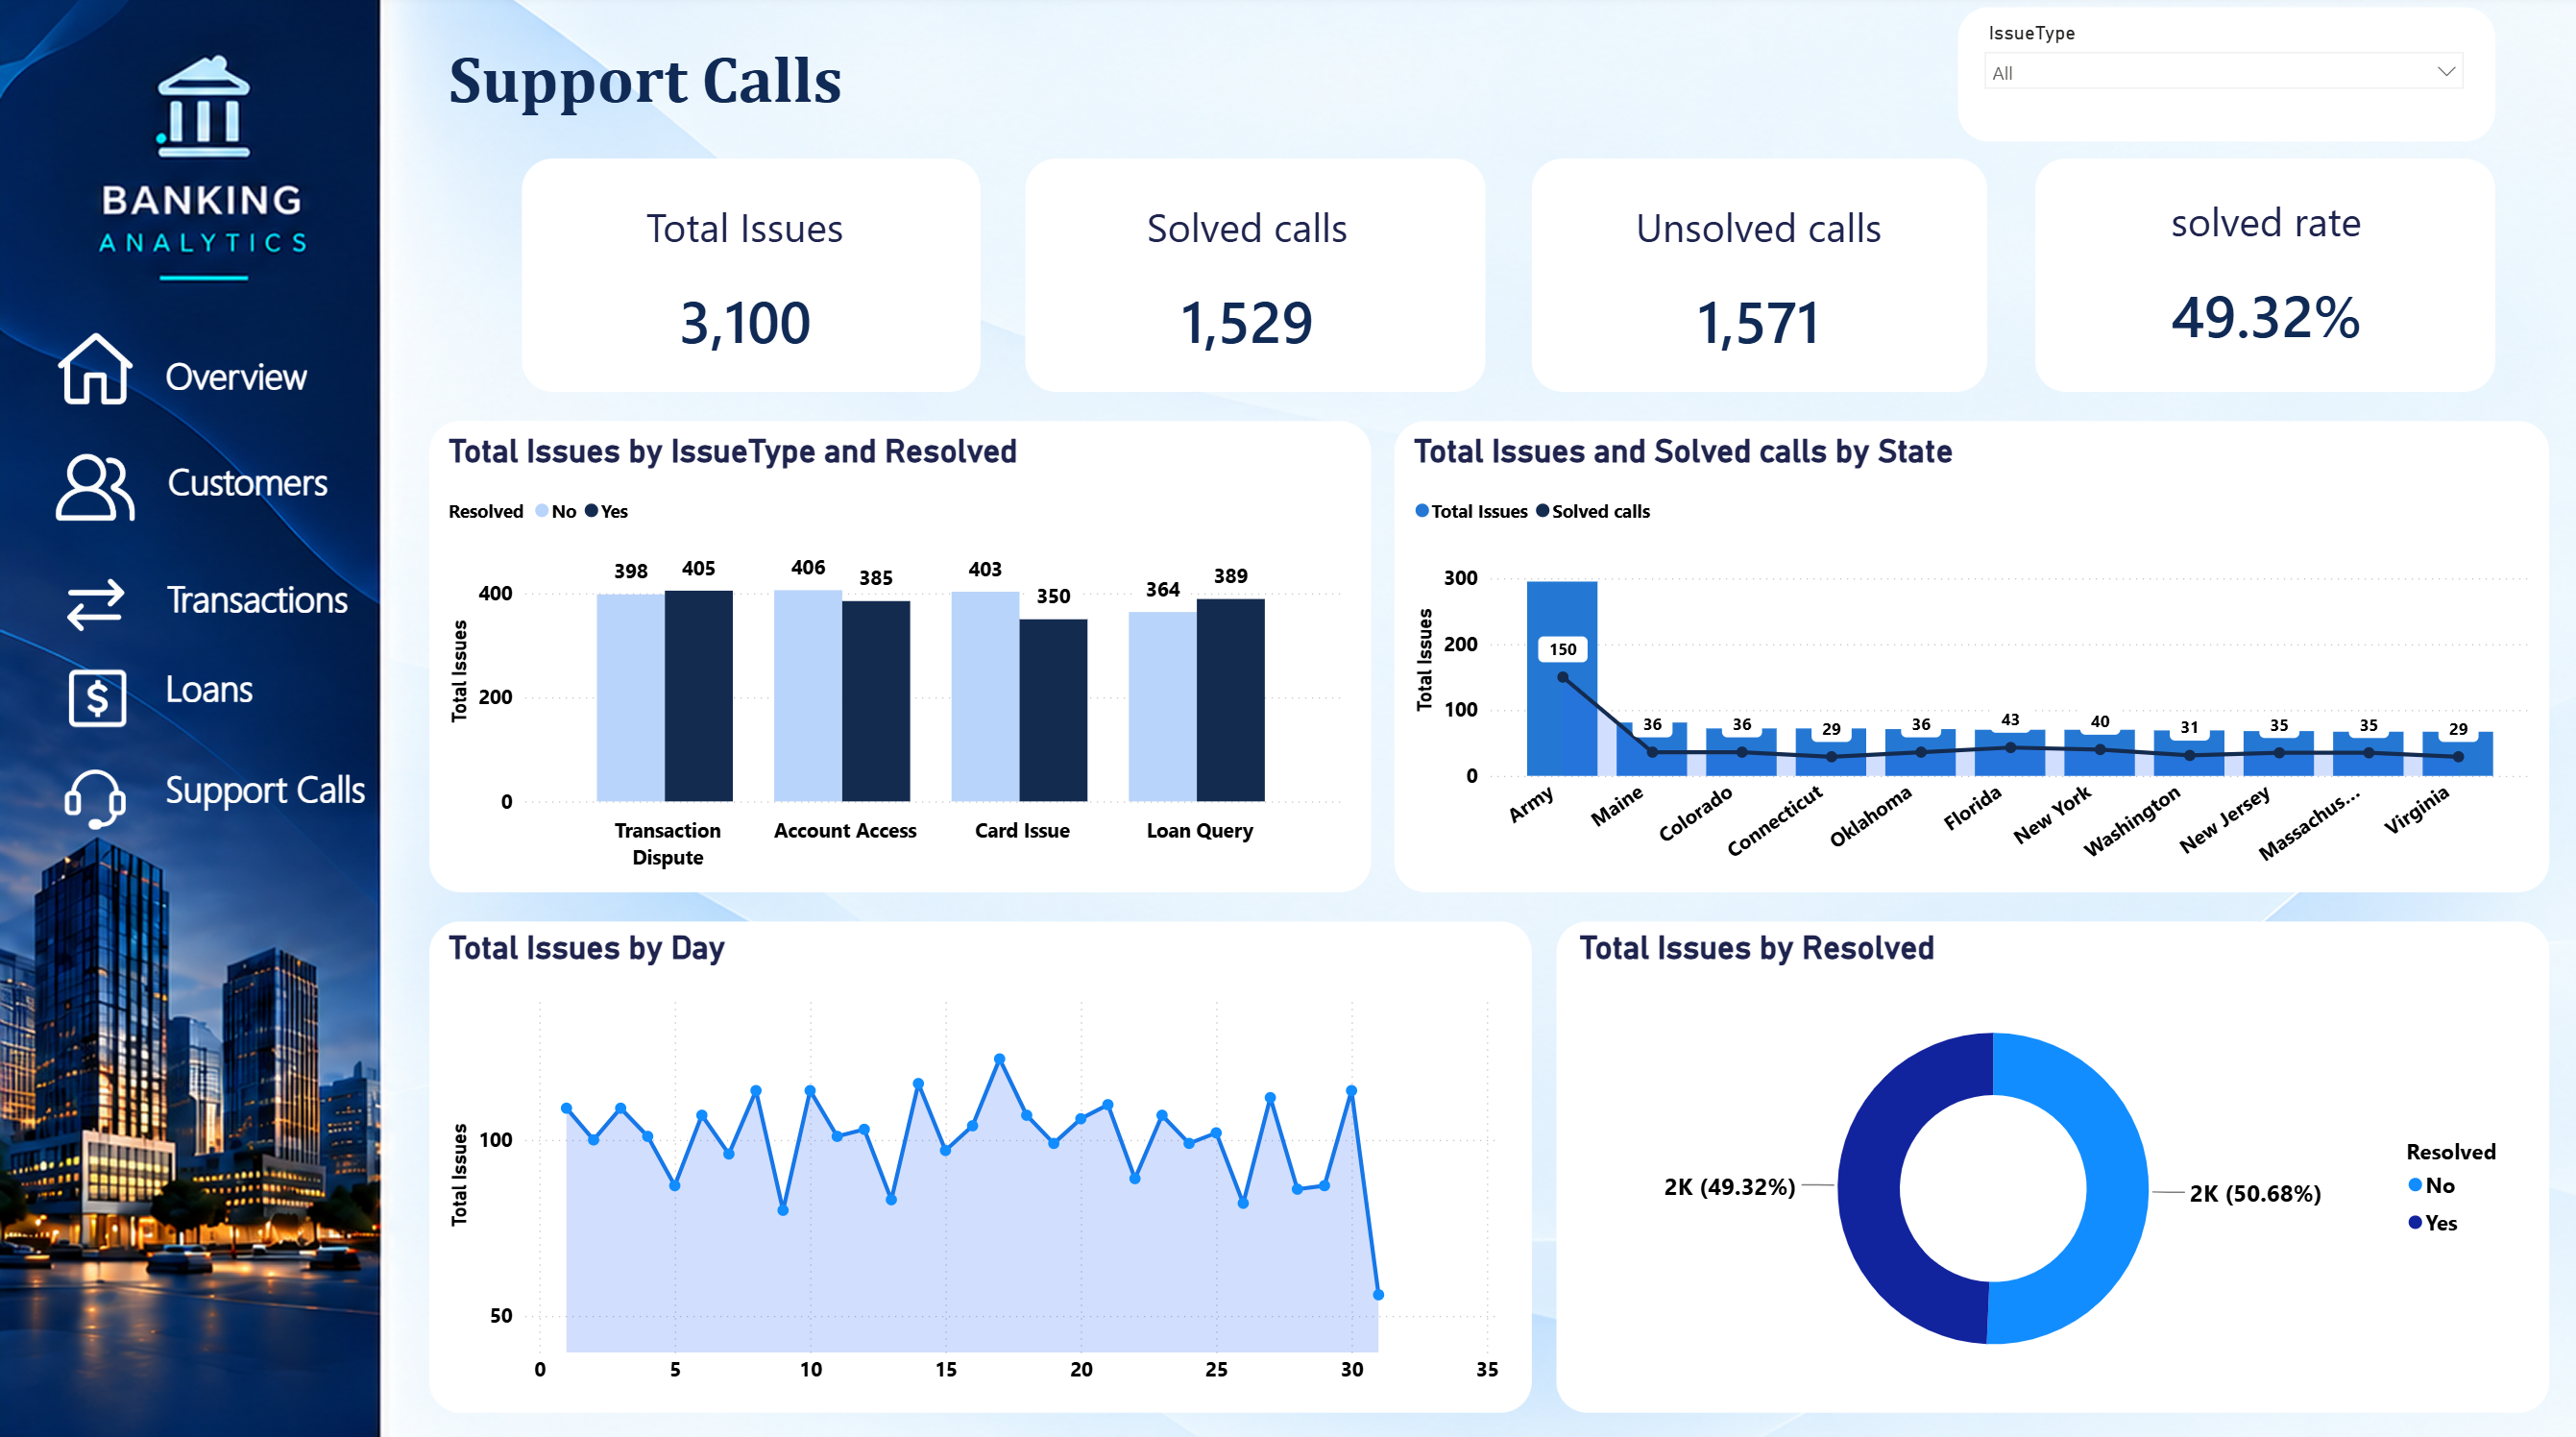

The page's visual inventory and layout, read from the dashboard file:
{"tool":"powerbi","page":{"name":"Support Calls","canvas":[1920,1080],"ordinal":6},"visuals":[{"type":"cardVisual","fields":{"Data":["Calculations support calls.Total Issues"]},"box":[400,128,308,168],"z":0},{"type":"cardVisual","fields":{"Data":["Calculations support calls.Solved calls"]},"box":[770,128,316,168],"z":1000},{"type":"cardVisual","fields":{"Data":["Calculations support calls.Resolution Rate"]},"box":[1528,122,314,174],"z":2000},{"type":"cardVisual","fields":{"Data":["Calculations support calls.Unsolved calls"]},"box":[1150,128,316,168],"z":3000},{"type":"lineClusteredColumnComboChart","fields":{"Category":["SupportCalls.IssueType"],"Series":["SupportCalls.Resolved"],"Y":["Calculations support calls.Total Issues"]},"box":[328,326,674,334],"z":4000},{"type":"donutChart","fields":{"Category":["SupportCalls.Resolved"],"Y":["Calculations support calls.Total Issues"]},"box":[1170,696,716,348],"z":5000},{"type":"lineChart","fields":{"Category":["Calender.Date.Variation.Date Hierarchy.Day"],"Y":["Calculations support calls.Total Issues"]},"box":[328,696,792,348],"z":6000},{"type":"lineClusteredColumnComboChart","fields":{"Category":["customers.State"],"Y":["Calculations support calls.Total Issues"],"Y2":["Calculations support calls.Solved calls"]},"box":[1046,326,840,334],"z":7000},{"type":"slicer","fields":{"Values":["SupportCalls.IssueType"]},"box":[1466.1,30.4,376.8,58.9],"z":8000},{"type":"textbox","box":[328,30,311.4,91.4],"z":9000},{"type":"image","box":[33.9,227.1,73.6,105.5],"z":10000},{"type":"image","box":[33.9,334.6,73.8,66.2],"z":11000},{"type":"image","box":[33.9,417.1,73.8,73.8],"z":12000},{"type":"image","box":[33.9,502.1,73.8,47.5],"z":13000},{"type":"image","box":[34.3,572.5,73.8,53.8],"z":14000},{"type":"shape","box":[124.3,332.8,136.7,60],"z":15000},{"type":"shape","box":[123,419,136.7,60],"z":16000},{"type":"shape","box":[123,486.5,136.7,60],"z":17000},{"type":"shape","box":[123,561.5,150.9,60],"z":18000},{"type":"shape","box":[123,254,136.7,60],"z":19000}]}

Visuals, with their boxes in screenshot pixels (x1, y1, x2, y2), scaled from the page's 1920x1080 canvas onto the 2576x1437 screenshot:
cardVisual - Calculations support calls.Total Issues: [left=537, top=170, right=950, bottom=394]
cardVisual - Calculations support calls.Solved calls: [left=1033, top=170, right=1457, bottom=394]
cardVisual - Calculations support calls.Resolution Rate: [left=2050, top=162, right=2471, bottom=394]
cardVisual - Calculations support calls.Unsolved calls: [left=1543, top=170, right=1967, bottom=394]
lineClusteredColumnComboChart - SupportCalls.IssueType x SupportCalls.Resolved: [left=440, top=434, right=1345, bottom=878]
donutChart - SupportCalls.Resolved x Calculations support calls.Total Issues: [left=1569, top=926, right=2531, bottom=1389]
lineChart - Calender.Date.Variation.Date Hierarchy.Day x Calculations support calls.Total Issues: [left=440, top=926, right=1502, bottom=1389]
lineClusteredColumnComboChart - customers.State x Calculations support calls.Total Issues: [left=1403, top=434, right=2531, bottom=878]
slicer - SupportCalls.IssueType: [left=1967, top=40, right=2472, bottom=119]
textbox: [left=440, top=40, right=858, bottom=161]
image: [left=45, top=303, right=144, bottom=443]
image: [left=45, top=445, right=144, bottom=533]
image: [left=45, top=555, right=144, bottom=653]
image: [left=45, top=669, right=144, bottom=731]
image: [left=46, top=762, right=145, bottom=834]
shape: [left=167, top=443, right=351, bottom=523]
shape: [left=165, top=557, right=349, bottom=638]
shape: [left=165, top=647, right=349, bottom=727]
shape: [left=165, top=747, right=368, bottom=827]
shape: [left=165, top=338, right=349, bottom=418]
